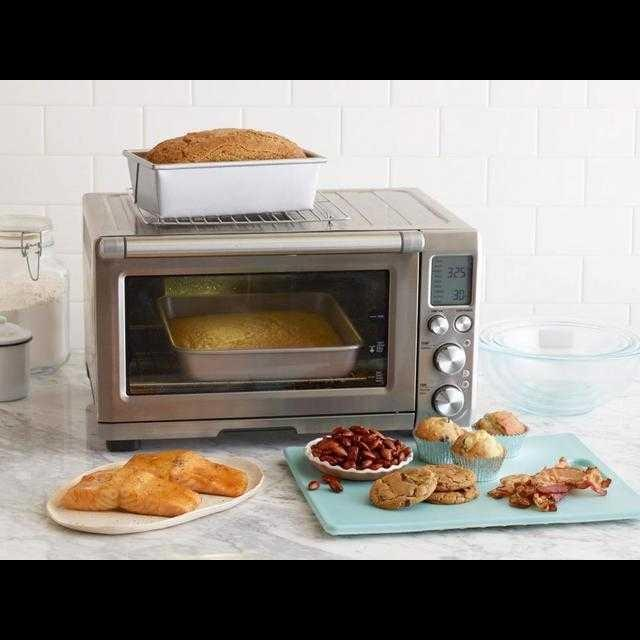Oven: (80, 232, 460, 424)
